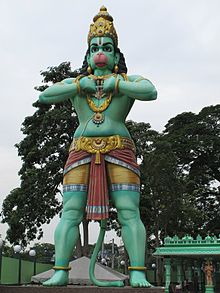Hindu Temple: (47, 4, 153, 278)
